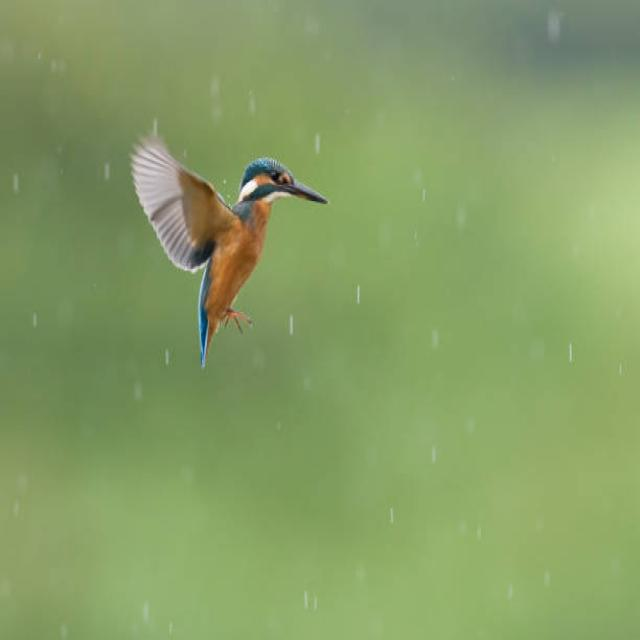kingfisher: (90, 118, 354, 388), (358, 343, 363, 362), (138, 541, 142, 560)
